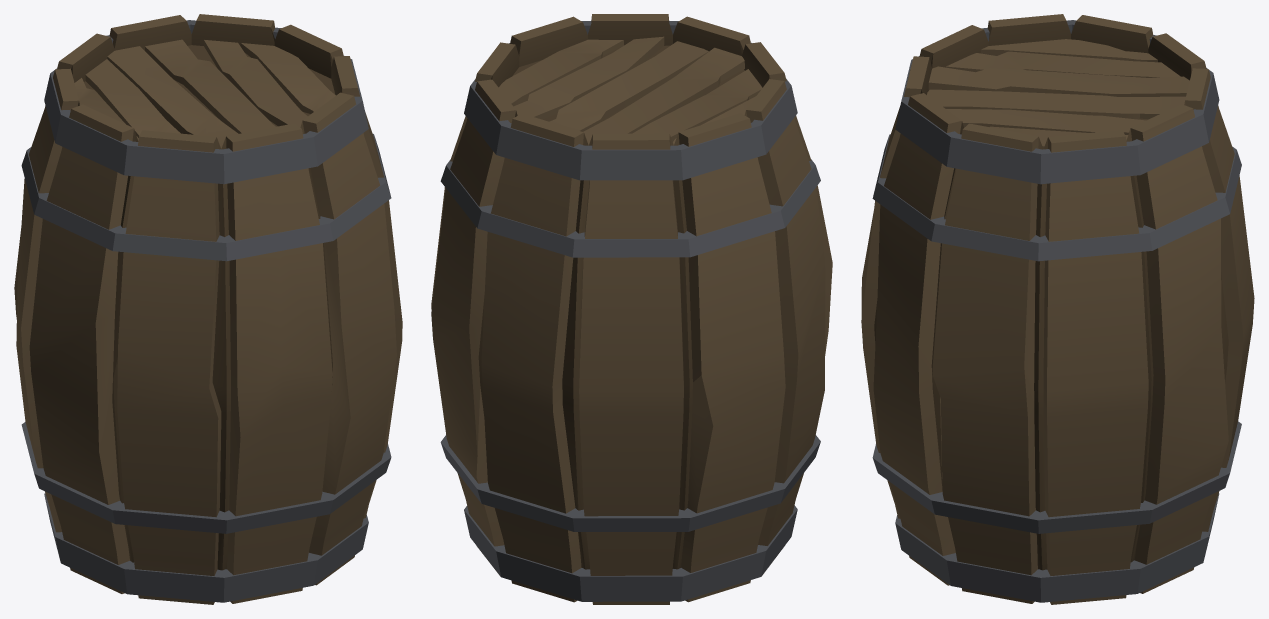
Rendered from Barrel.glb.
3 renders of one model, left to right at view 1: azimuth 30°, elevation 25°; view 2: azimuth 150°, elevation 25°; view 3: azimuth 270°, elevation 25°, orthographic.
Visible parts, largest first — view 1: Wood, Metal, DarkWood; view 2: Wood, Metal, DarkWood; view 3: Wood, Metal, DarkWood.
Part boxes in pixels (box(x1,y1,x2,y2)): Wood: box(14, 14, 402, 604); Metal: box(21, 20, 391, 602); DarkWood: box(71, 20, 343, 570); Wood: box(431, 14, 832, 604); Metal: box(440, 21, 820, 601); DarkWood: box(478, 21, 770, 569); Wood: box(861, 14, 1254, 604); Metal: box(872, 20, 1241, 602); DarkWood: box(874, 20, 1228, 570).
Bounding box in the file's own units: 0.8314 × 1.07 × 0.8241.
